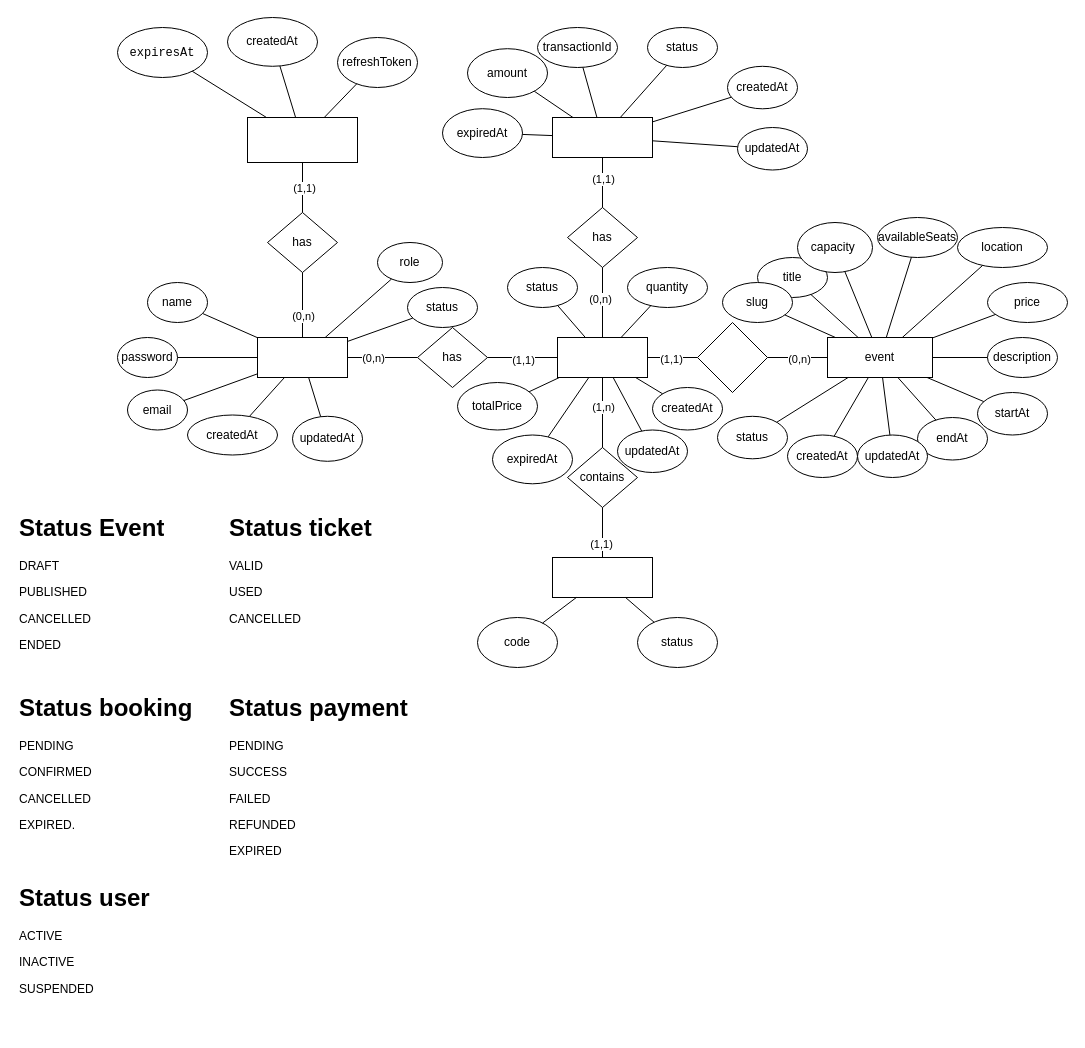
The diagram is 1085 pixels wide and 1048 high, and some of its shapes have lost their labels. Each missing label, with the box of its shape:
belong: (696, 322, 768, 392)
booking: (556, 336, 648, 378)
payment: (552, 116, 652, 158)
session: (246, 116, 358, 162)
ticket: (552, 556, 652, 598)
user: (256, 336, 348, 378)
